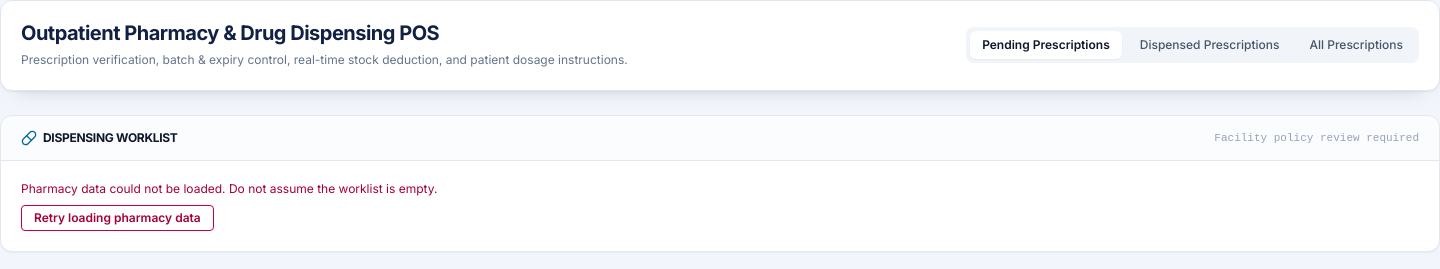
Test: Pharmacy retry recovery in one browser › shows a failed worklist as unavailable, not empty, and retries safely
The width and height of the screenshot is (1440, 269).
Check: the message shows "Pharmacy data could not be loaded. Do not assume the worklist is empty.", box [21,180,437,196]
Check: the button "Dispense Item" is not shown
Click the button "Retry loading pharmacy data".
click(117, 218)  # box [21,204,214,230]
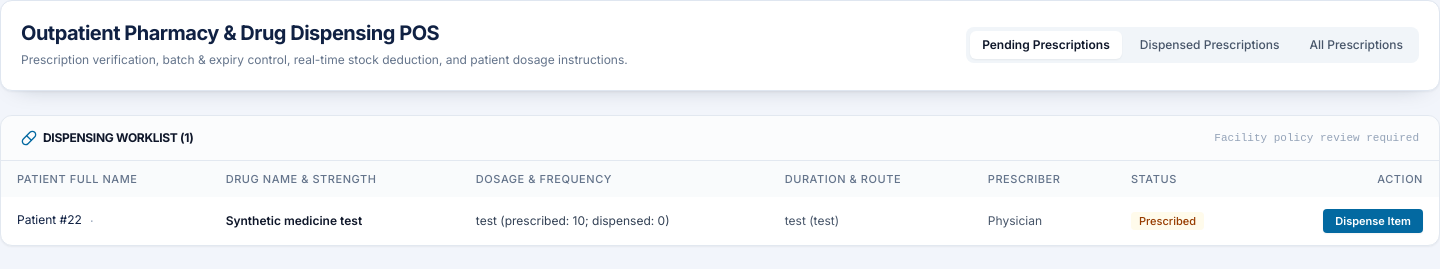
Check: the button "Dispense Item" is shown, box [1323,208,1423,232]
Check: the message is gone
